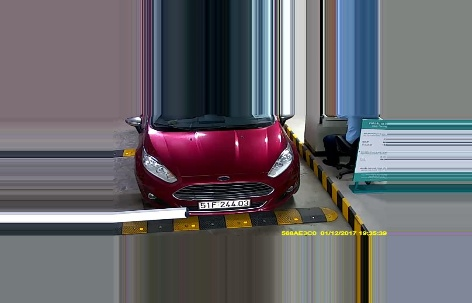plate: (198, 198, 251, 209)
